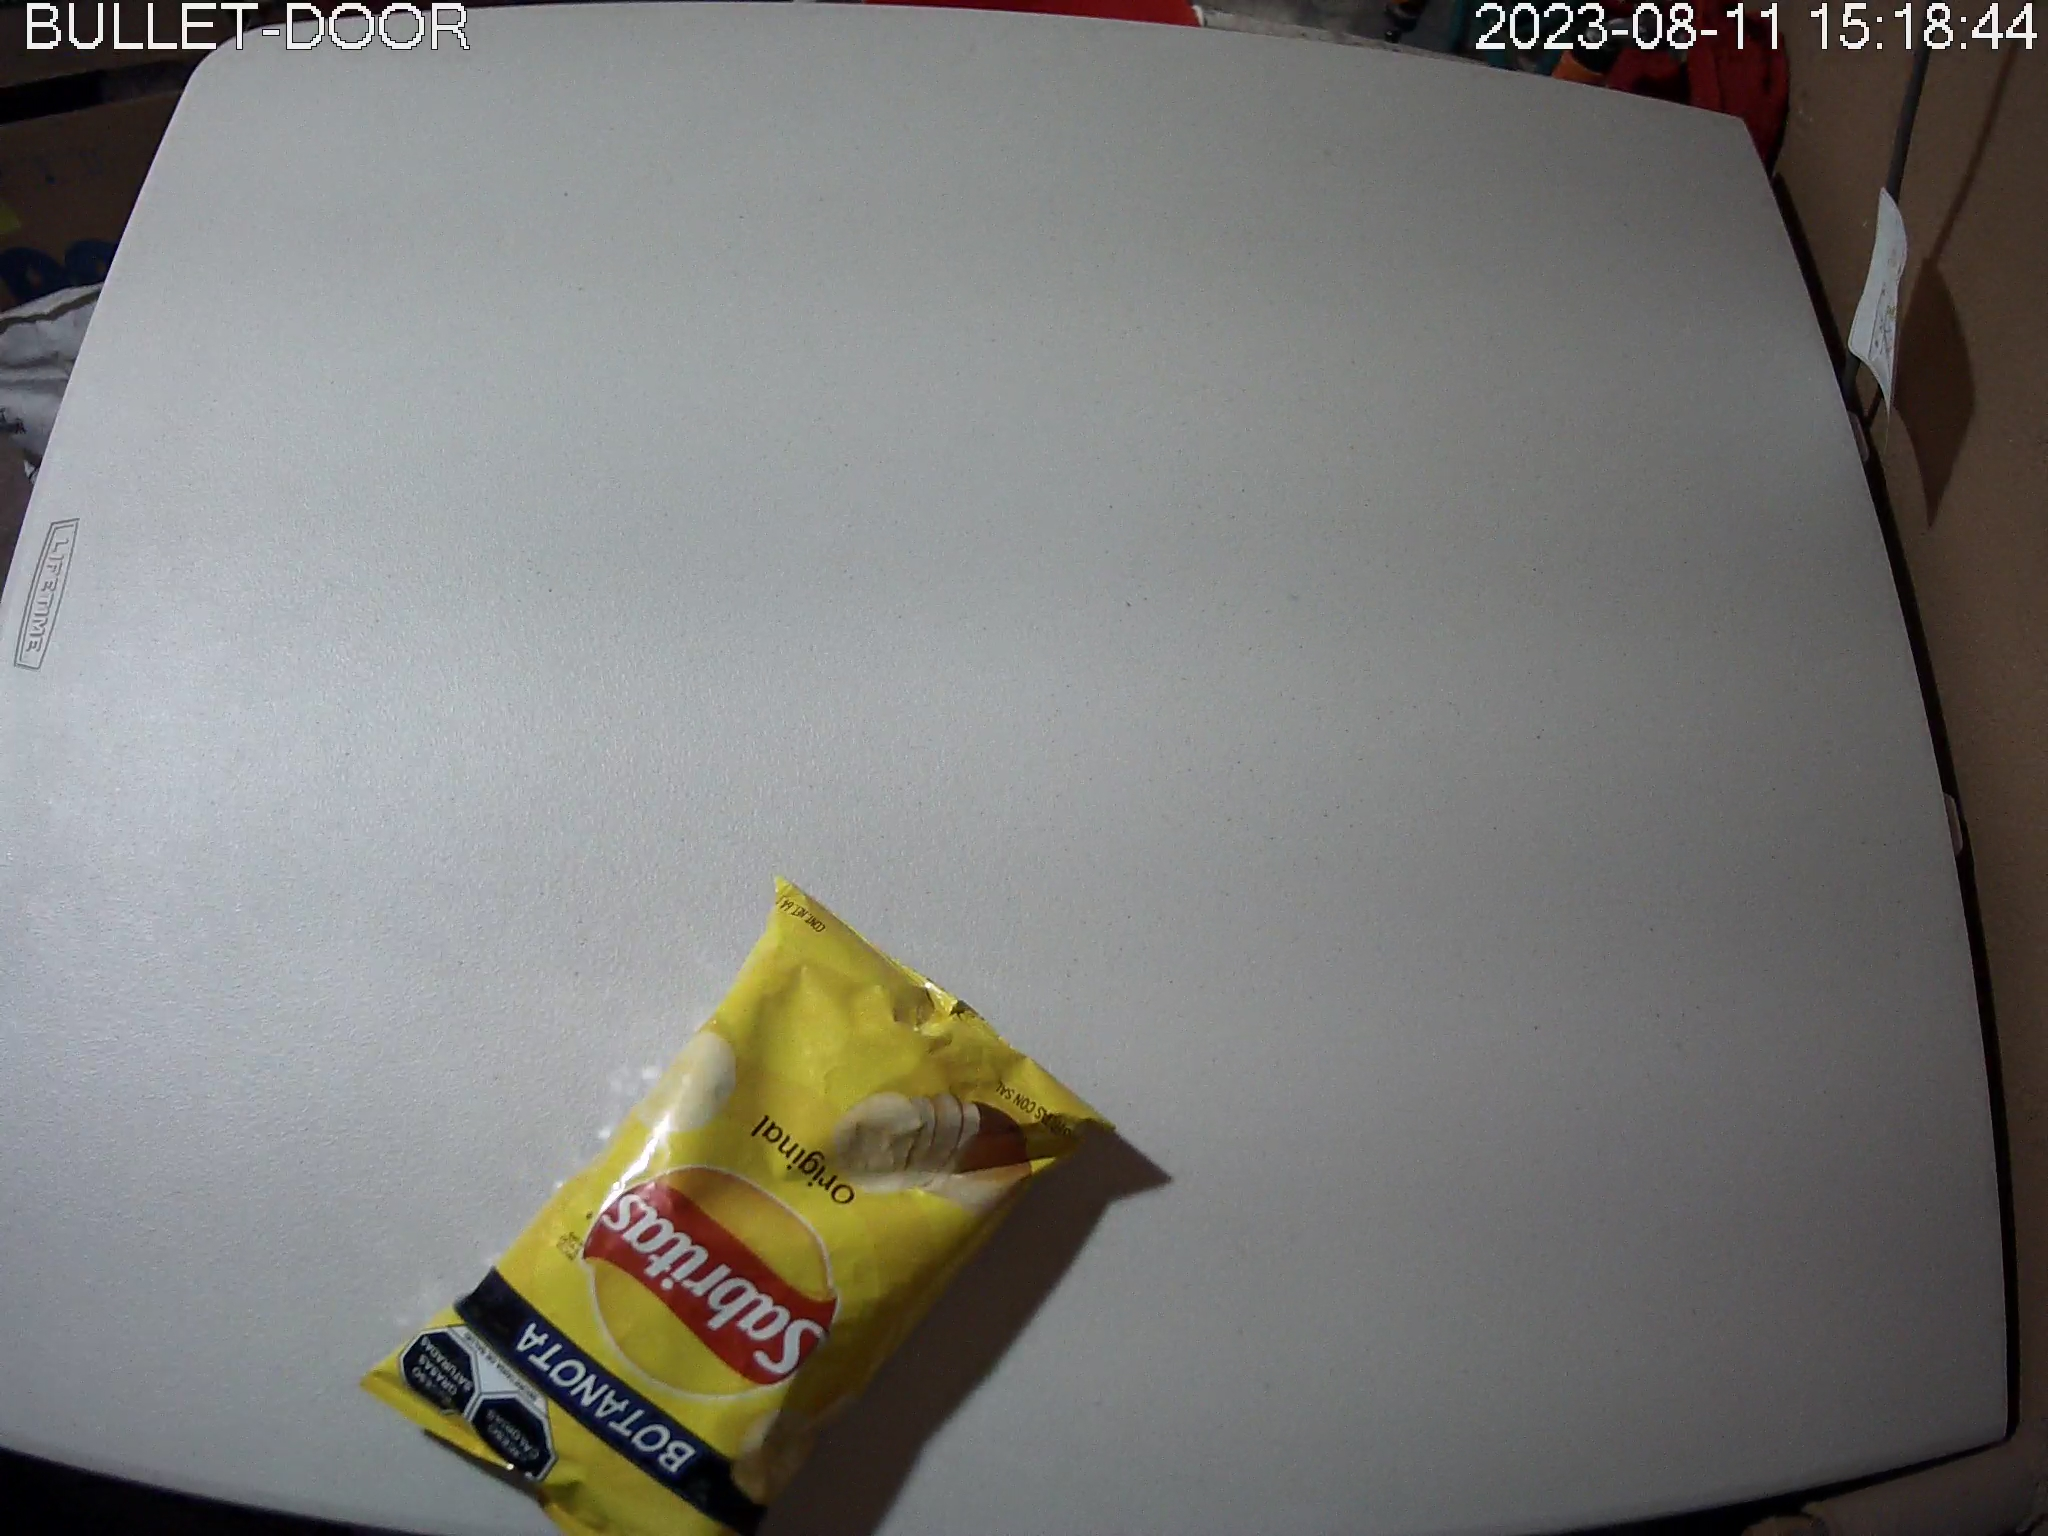Sabritas_64_F: (356, 873, 1118, 1536)
